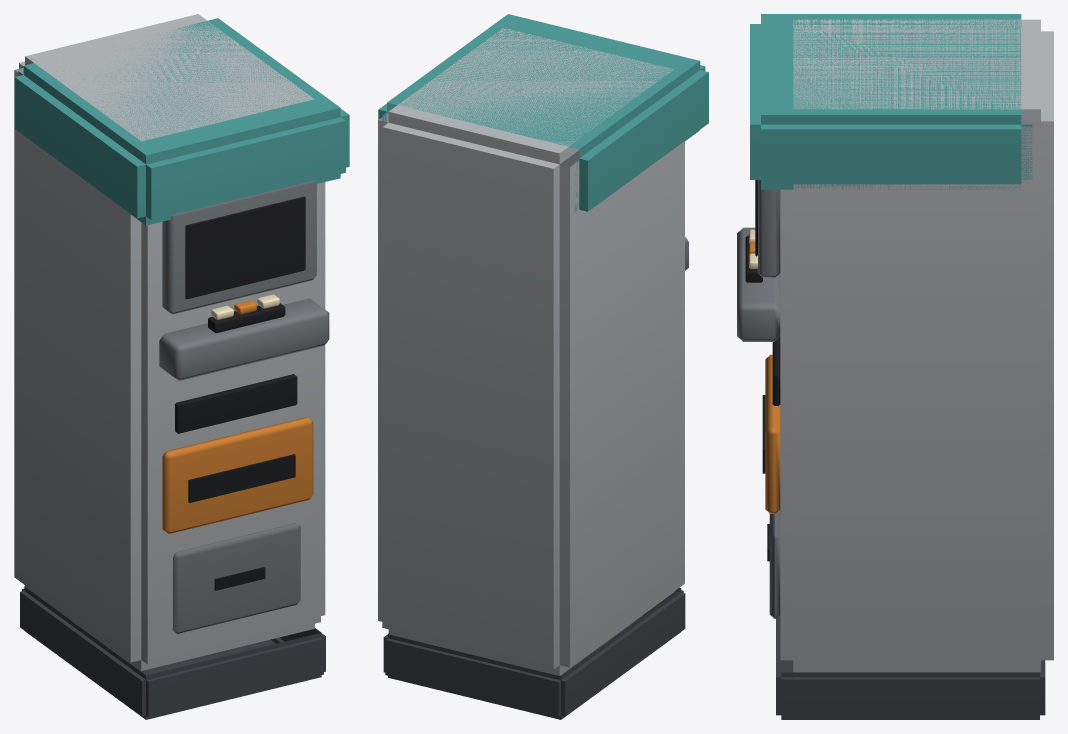
The model's file is Kiosk_Cash_01.glb.
3 renders of one model, left to right at view 1: azimuth 30°, elevation 25°; view 2: azimuth 150°, elevation 25°; view 3: azimuth 270°, elevation 25°, orthographic. The views are drawn at different scales.
Parts seen in each view (by area): view 1: SM_Kiosk_Cash_01; view 2: SM_Kiosk_Cash_01; view 3: SM_Kiosk_Cash_01.
Part boxes in pixels (box(x1,y1,x2,y2)): SM_Kiosk_Cash_01: box(14, 14, 349, 719); SM_Kiosk_Cash_01: box(378, 14, 708, 719); SM_Kiosk_Cash_01: box(737, 14, 1053, 719).
Size of the model in its own units: 0.6 by 1.55 by 0.73.
1 material, 1 textured.
